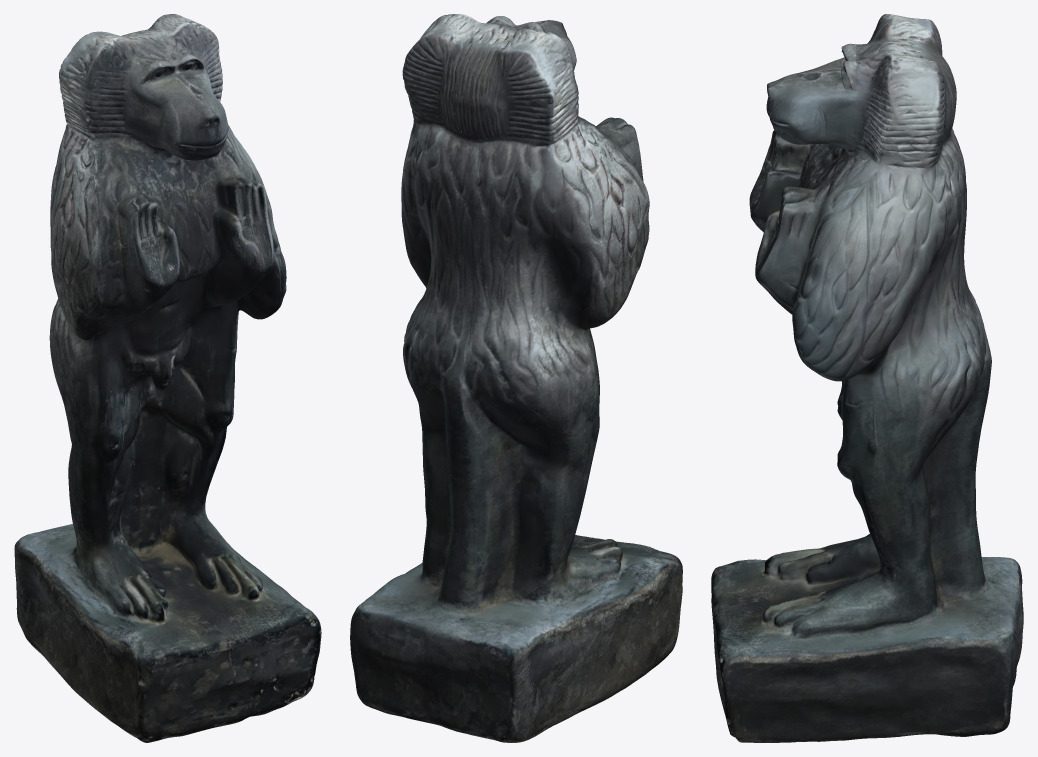
3 views of the same model, side by side, from view 1: azimuth 30°, elevation 25°; view 2: azimuth 150°, elevation 25°; view 3: azimuth 270°, elevation 25° (orthographic). The views are drawn at different scales.
Parts seen in each view (by area): view 1: tripo_node_58c5967b-5ea8-4ec8-9410-f607f3120f92; view 2: tripo_node_58c5967b-5ea8-4ec8-9410-f607f3120f92; view 3: tripo_node_58c5967b-5ea8-4ec8-9410-f607f3120f92.
Boxes of the visible parts, bbox=[...] form: tripo_node_58c5967b-5ea8-4ec8-9410-f607f3120f92: bbox=[14, 14, 321, 742]; tripo_node_58c5967b-5ea8-4ec8-9410-f607f3120f92: bbox=[350, 14, 682, 742]; tripo_node_58c5967b-5ea8-4ec8-9410-f607f3120f92: bbox=[711, 14, 1023, 742].
Size of the model in its own units: 0.3216 by 0.9784 by 0.4135.
1 material, 1 textured.
